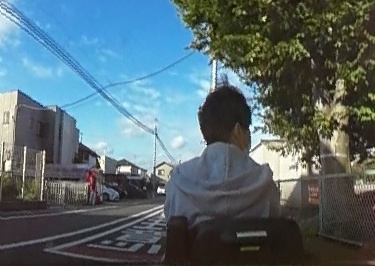person: (165, 83, 277, 237)
